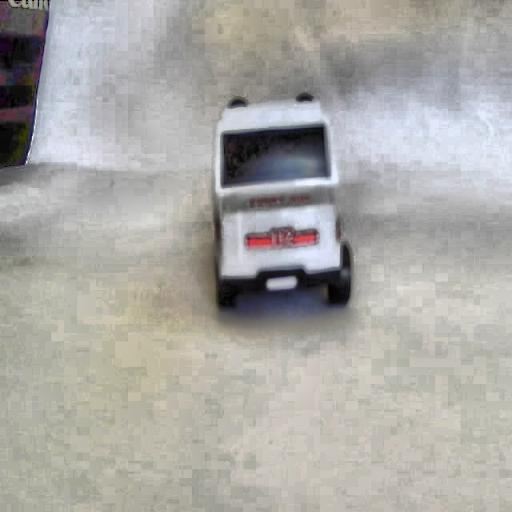ambulance: (212, 94, 351, 309)
